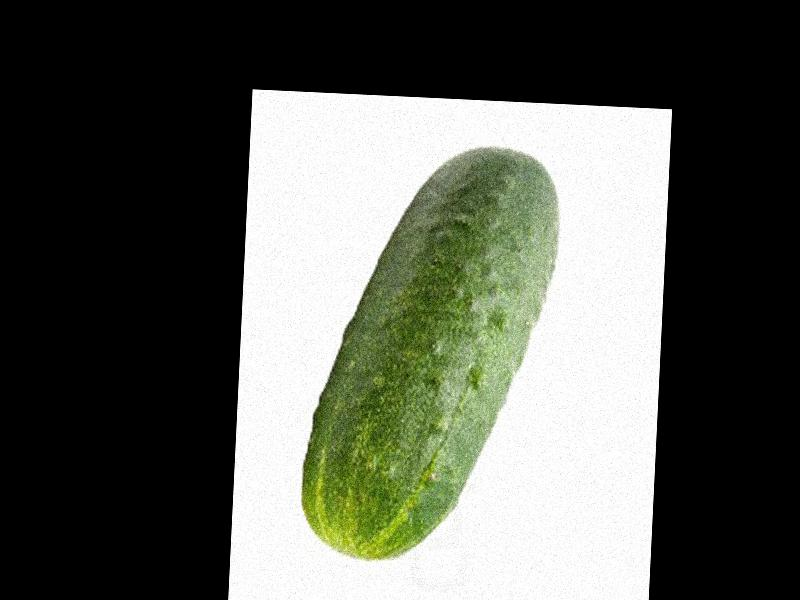Cucumber: (302, 139, 564, 569)
